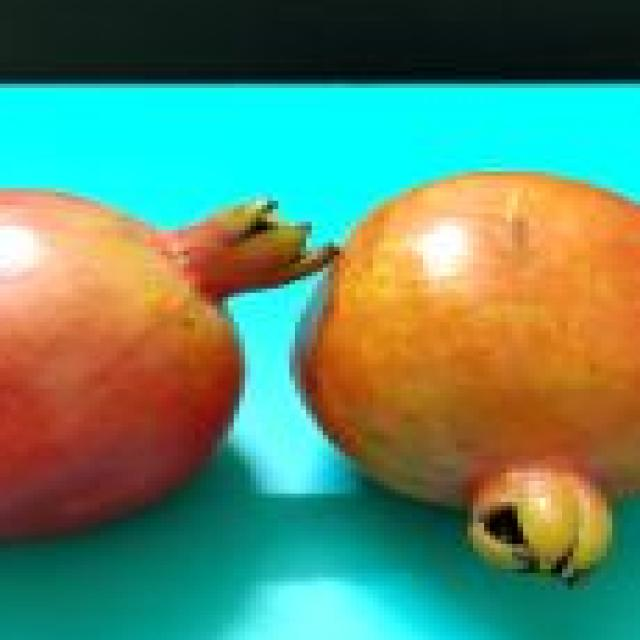Good_Pomegranate-50-60-days: (0, 172, 640, 586)
